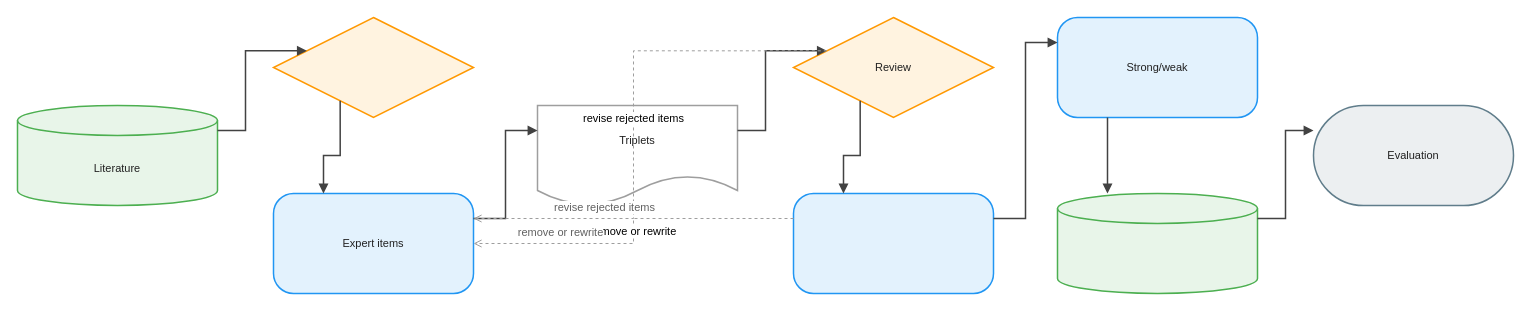
This 1532x312 diagram has some shape labels left out. Each missing label, with the box of its shape:
BABE data: (1056, 192, 1258, 294)
LLM filter: (792, 192, 994, 294)
Screening: (272, 16, 474, 118)
